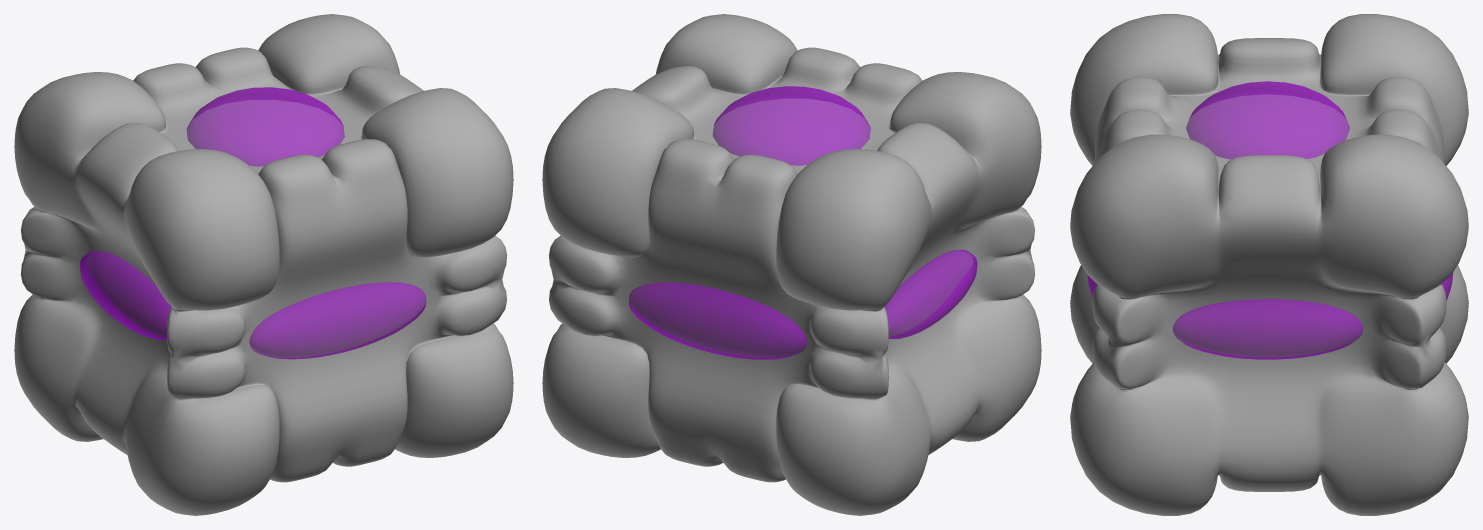
The model's file is LeCube.fbx.
The picture shows the model from 3 angles, left to right: view 1: azimuth 30°, elevation 25°; view 2: azimuth 150°, elevation 25°; view 3: azimuth 270°, elevation 25°; orthographic projection. The views are drawn at different scales.
Visible parts, largest first — view 1: pCube1, pSphere2, pSphere5, pSphere3; view 2: pCube1, pSphere1, pSphere5, pSphere3; view 3: pCube1, pSphere5, pSphere4.
Part boxes in pixels (x1,y1,x2,y2): pCube1: (14,14,513,515); pSphere2: (249,282,426,359); pSphere5: (186,87,344,166); pSphere3: (80,251,171,339); pCube1: (542,14,1041,515); pSphere1: (629,282,806,359); pSphere5: (712,86,870,165); pSphere3: (884,250,977,338); pCube1: (1070,14,1468,515); pSphere5: (1186,81,1349,159); pSphere4: (1172,299,1363,359).
Size of the model in its own units: 3.97 by 3.76 by 3.74.
